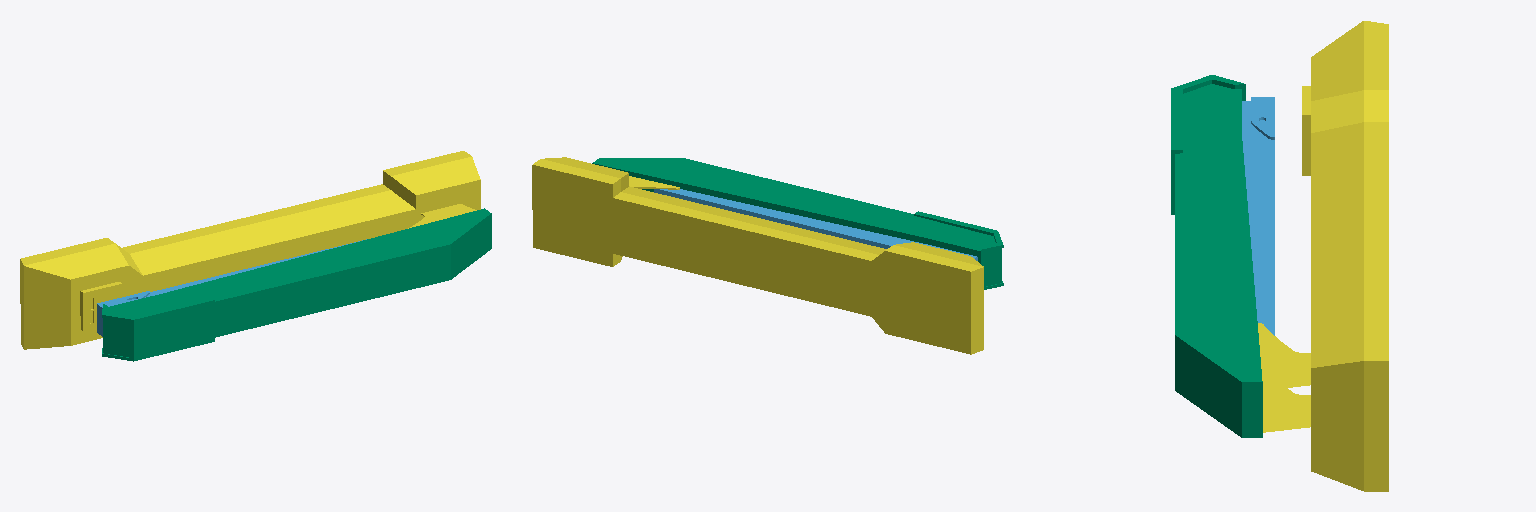
robot.urdf — partnet_8c34afa29665356013b1d3e1528f0506-0:
<?xml version="1.0" ?>
<robot name="partnet_8c34afa29665356013b1d3e1528f0506-0">
	<link name="base"/>
	<link name="link_0">
		<visual name="body-1">
			<origin xyz="-0.0 -0.09713288304940276 0.49444914751130464"/>
			<geometry>
				<mesh filename="textured_objs/original-2.obj"/>
			</geometry>
		</visual>
		<visual name="body-1">
			<origin xyz="-0.0 -0.09713288304940276 0.49444914751130464"/>
			<geometry>
				<mesh filename="textured_objs/original-3.obj"/>
			</geometry>
		</visual>
		<collision>
			<origin xyz="-0.0 -0.09713288304940276 0.49444914751130464"/>
			<geometry>
				<mesh filename="textured_objs/original-2.obj"/>
			</geometry>
		</collision>
		<collision>
			<origin xyz="-0.0 -0.09713288304940276 0.49444914751130464"/>
			<geometry>
				<mesh filename="textured_objs/original-3.obj"/>
			</geometry>
		</collision>
	</link>
	<joint name="joint_0" type="fixed">
		<origin xyz="0.0 0.018658453469988484 0.3295206648576805"/>
		<axis xyz="1.0 -0.0 -0.0"/>
		<child link="link_0"/>
		<parent link="link_1"/>
		<limit lower="-0.03769911184307752" upper="2.519557308179014"/>
	</joint>
	<link name="link_1">
		<visual name="lid-2">
			<origin xyz="-0.0 -0.07847442957941428 0.8239698123689851"/>
			<geometry>
				<mesh filename="textured_objs/original-5.obj"/>
			</geometry>
		</visual>
		<collision>
			<origin xyz="-0.0 -0.07847442957941428 0.8239698123689851"/>
			<geometry>
				<mesh filename="textured_objs/original-5.obj"/>
			</geometry>
		</collision>
	</link>
	<joint name="joint_1" type="revolute">
		<origin xyz="0.0 0.07847442957941428 -0.8239698123689851"/>
		<axis xyz="-1.0 -0.0 -0.0"/>
		<child link="link_1"/>
		<parent link="link_2"/>
		<limit lower="-0.050265482457436686" upper="2.142566189748239"/>
	</joint>
	<link name="link_2">
		<visual name="base_body-3">
			<origin xyz="0 0 0"/>
			<geometry>
				<mesh filename="textured_objs/original-4.obj"/>
			</geometry>
		</visual>
		<visual name="base_body-3">
			<origin xyz="0 0 0"/>
			<geometry>
				<mesh filename="textured_objs/original-1.obj"/>
			</geometry>
		</visual>
		<collision>
			<origin xyz="0 0 0"/>
			<geometry>
				<mesh filename="textured_objs/original-4.obj"/>
			</geometry>
		</collision>
		<collision>
			<origin xyz="0 0 0"/>
			<geometry>
				<mesh filename="textured_objs/original-1.obj"/>
			</geometry>
		</collision>
	</link>
	<joint name="joint_2" type="fixed">
		<origin rpy="1.570796326794897 1.57 -1.570796326794897" xyz="0 0 0"/>
		<child link="link_2"/>
		<parent link="base"/>
	</joint>
</robot>

--- What the picture shows (computed from the rendered views, not written in the file) ---
3 views of the same robot in one strip: view 1: azimuth 30°, elevation 25°; view 2: azimuth 150°, elevation 25°; view 3: azimuth 270°, elevation 25° (orthographic).
Robot: partnet_8c34afa29665356013b1d3e1528f0506-0 — 4 links, 3 joints (1 revolute, 2 fixed); root link base; default pose: all joints at 0.
Visible links, largest first — view 1: link_2, link_1, link_0; view 2: link_2, link_1, link_0; view 3: link_2, link_1, link_0.
Link boxes in pixels (x1,y1,x2,y2): link_2: [20, 151, 480, 349]; link_1: [102, 208, 491, 361]; link_0: [97, 239, 366, 336]; link_2: [532, 157, 983, 354]; link_1: [592, 158, 1003, 289]; link_0: [654, 189, 977, 260]; link_2: [1258, 21, 1388, 491]; link_1: [1171, 75, 1262, 437]; link_0: [1242, 97, 1274, 335].
Size in the robot's own frame: 1.93 by 0.5228 by 0.3447 metres.
Meshes: 5 distinct files referenced, 5 mesh visuals loaded (5 OBJ).